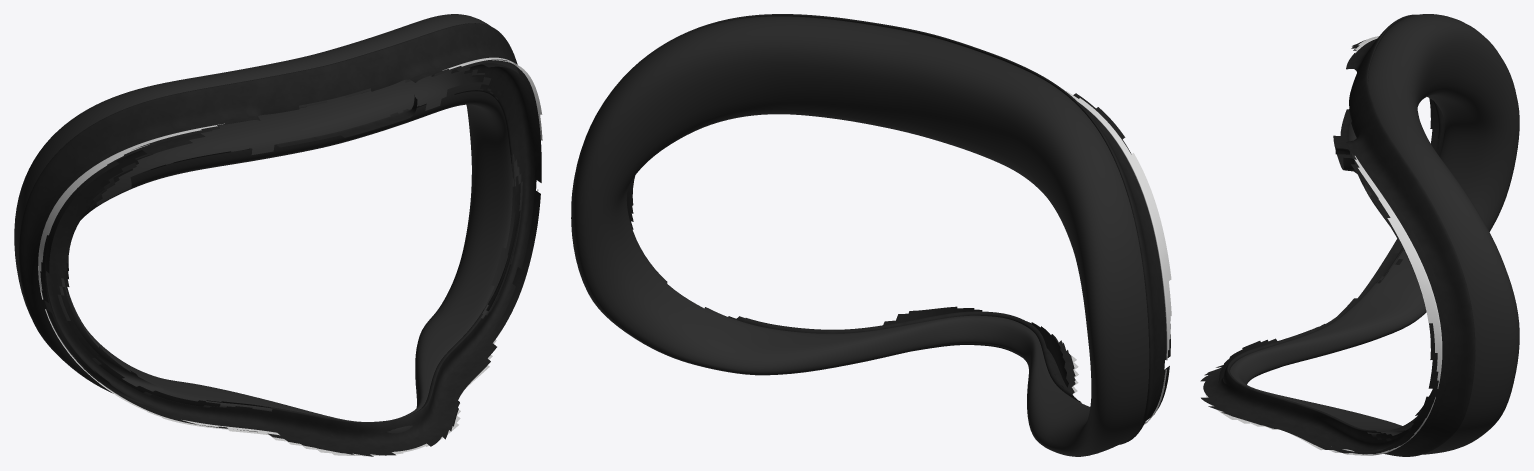
File: VRHeadSetFilm.fbx
The picture shows the model from 3 angles, left to right: view 1: azimuth 30°, elevation 25°; view 2: azimuth 150°, elevation 25°; view 3: azimuth 270°, elevation 25°; orthographic projection. The views are drawn at different scales.
Parts seen in each view (by area): view 1: Oculus Headset; view 2: Oculus Headset; view 3: Oculus Headset.
Boxes of the visible parts, x1,y1,x2,y2 form: Oculus Headset: (14,14,542,456); Oculus Headset: (571,14,1171,456); Oculus Headset: (1200,14,1519,456).
Bounding box in the file's own units: 125 × 77.21 × 70.96.
